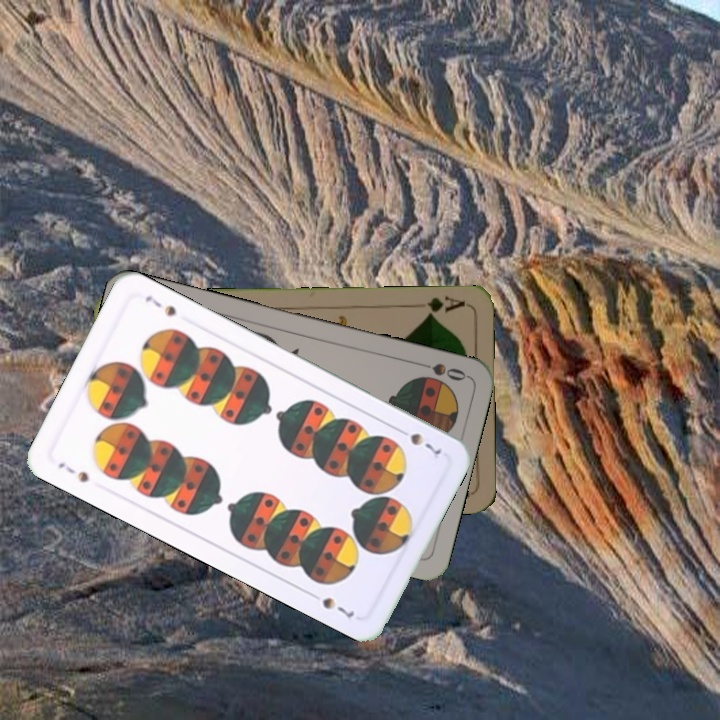GA: (408, 293, 467, 320)
S7: (392, 423, 444, 458), (54, 458, 92, 486)
SO: (411, 357, 469, 384)
